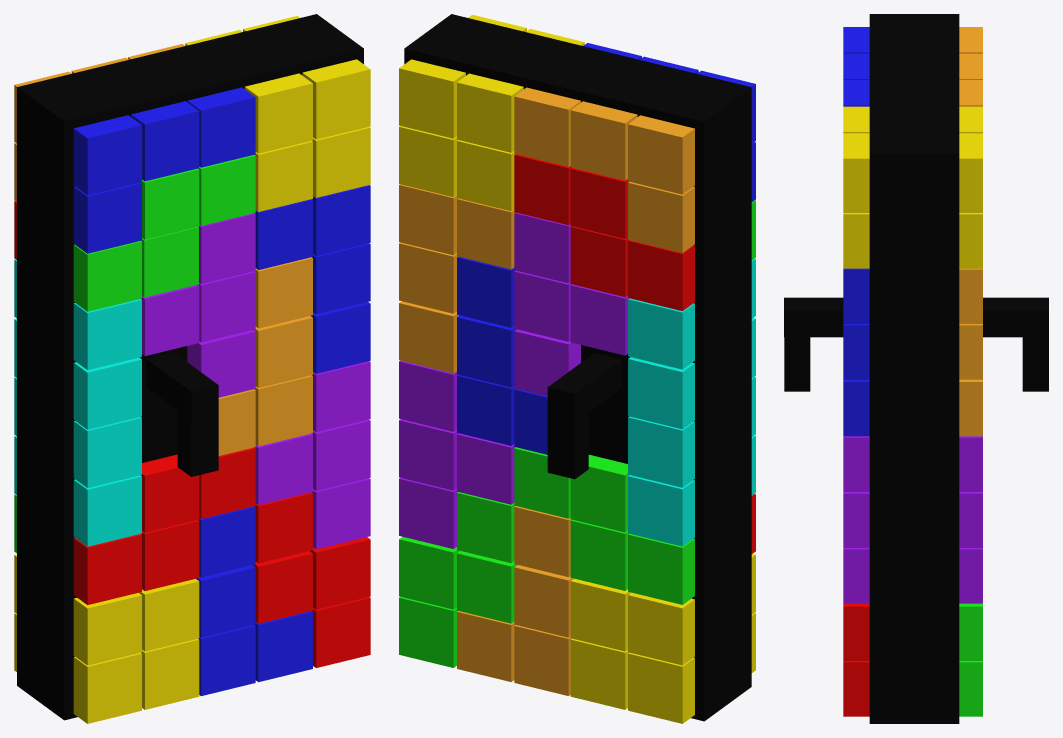
Rendered from TetrisDoor.fbx.
3 views of the same model, side by side, from view 1: azimuth 30°, elevation 25°; view 2: azimuth 150°, elevation 25°; view 3: azimuth 270°, elevation 25° (orthographic). The views are drawn at different scales.
Parts seen in each view (by area): view 1: Box103; view 2: Box103; view 3: Box103.
Part boxes in pixels (<box>): Box103: <box>14,14,370,723</box>; Box103: <box>399,14,755,723</box>; Box103: <box>784,14,1048,723</box>.
Size of the model in its own units: 55 by 105 by 44.19.
